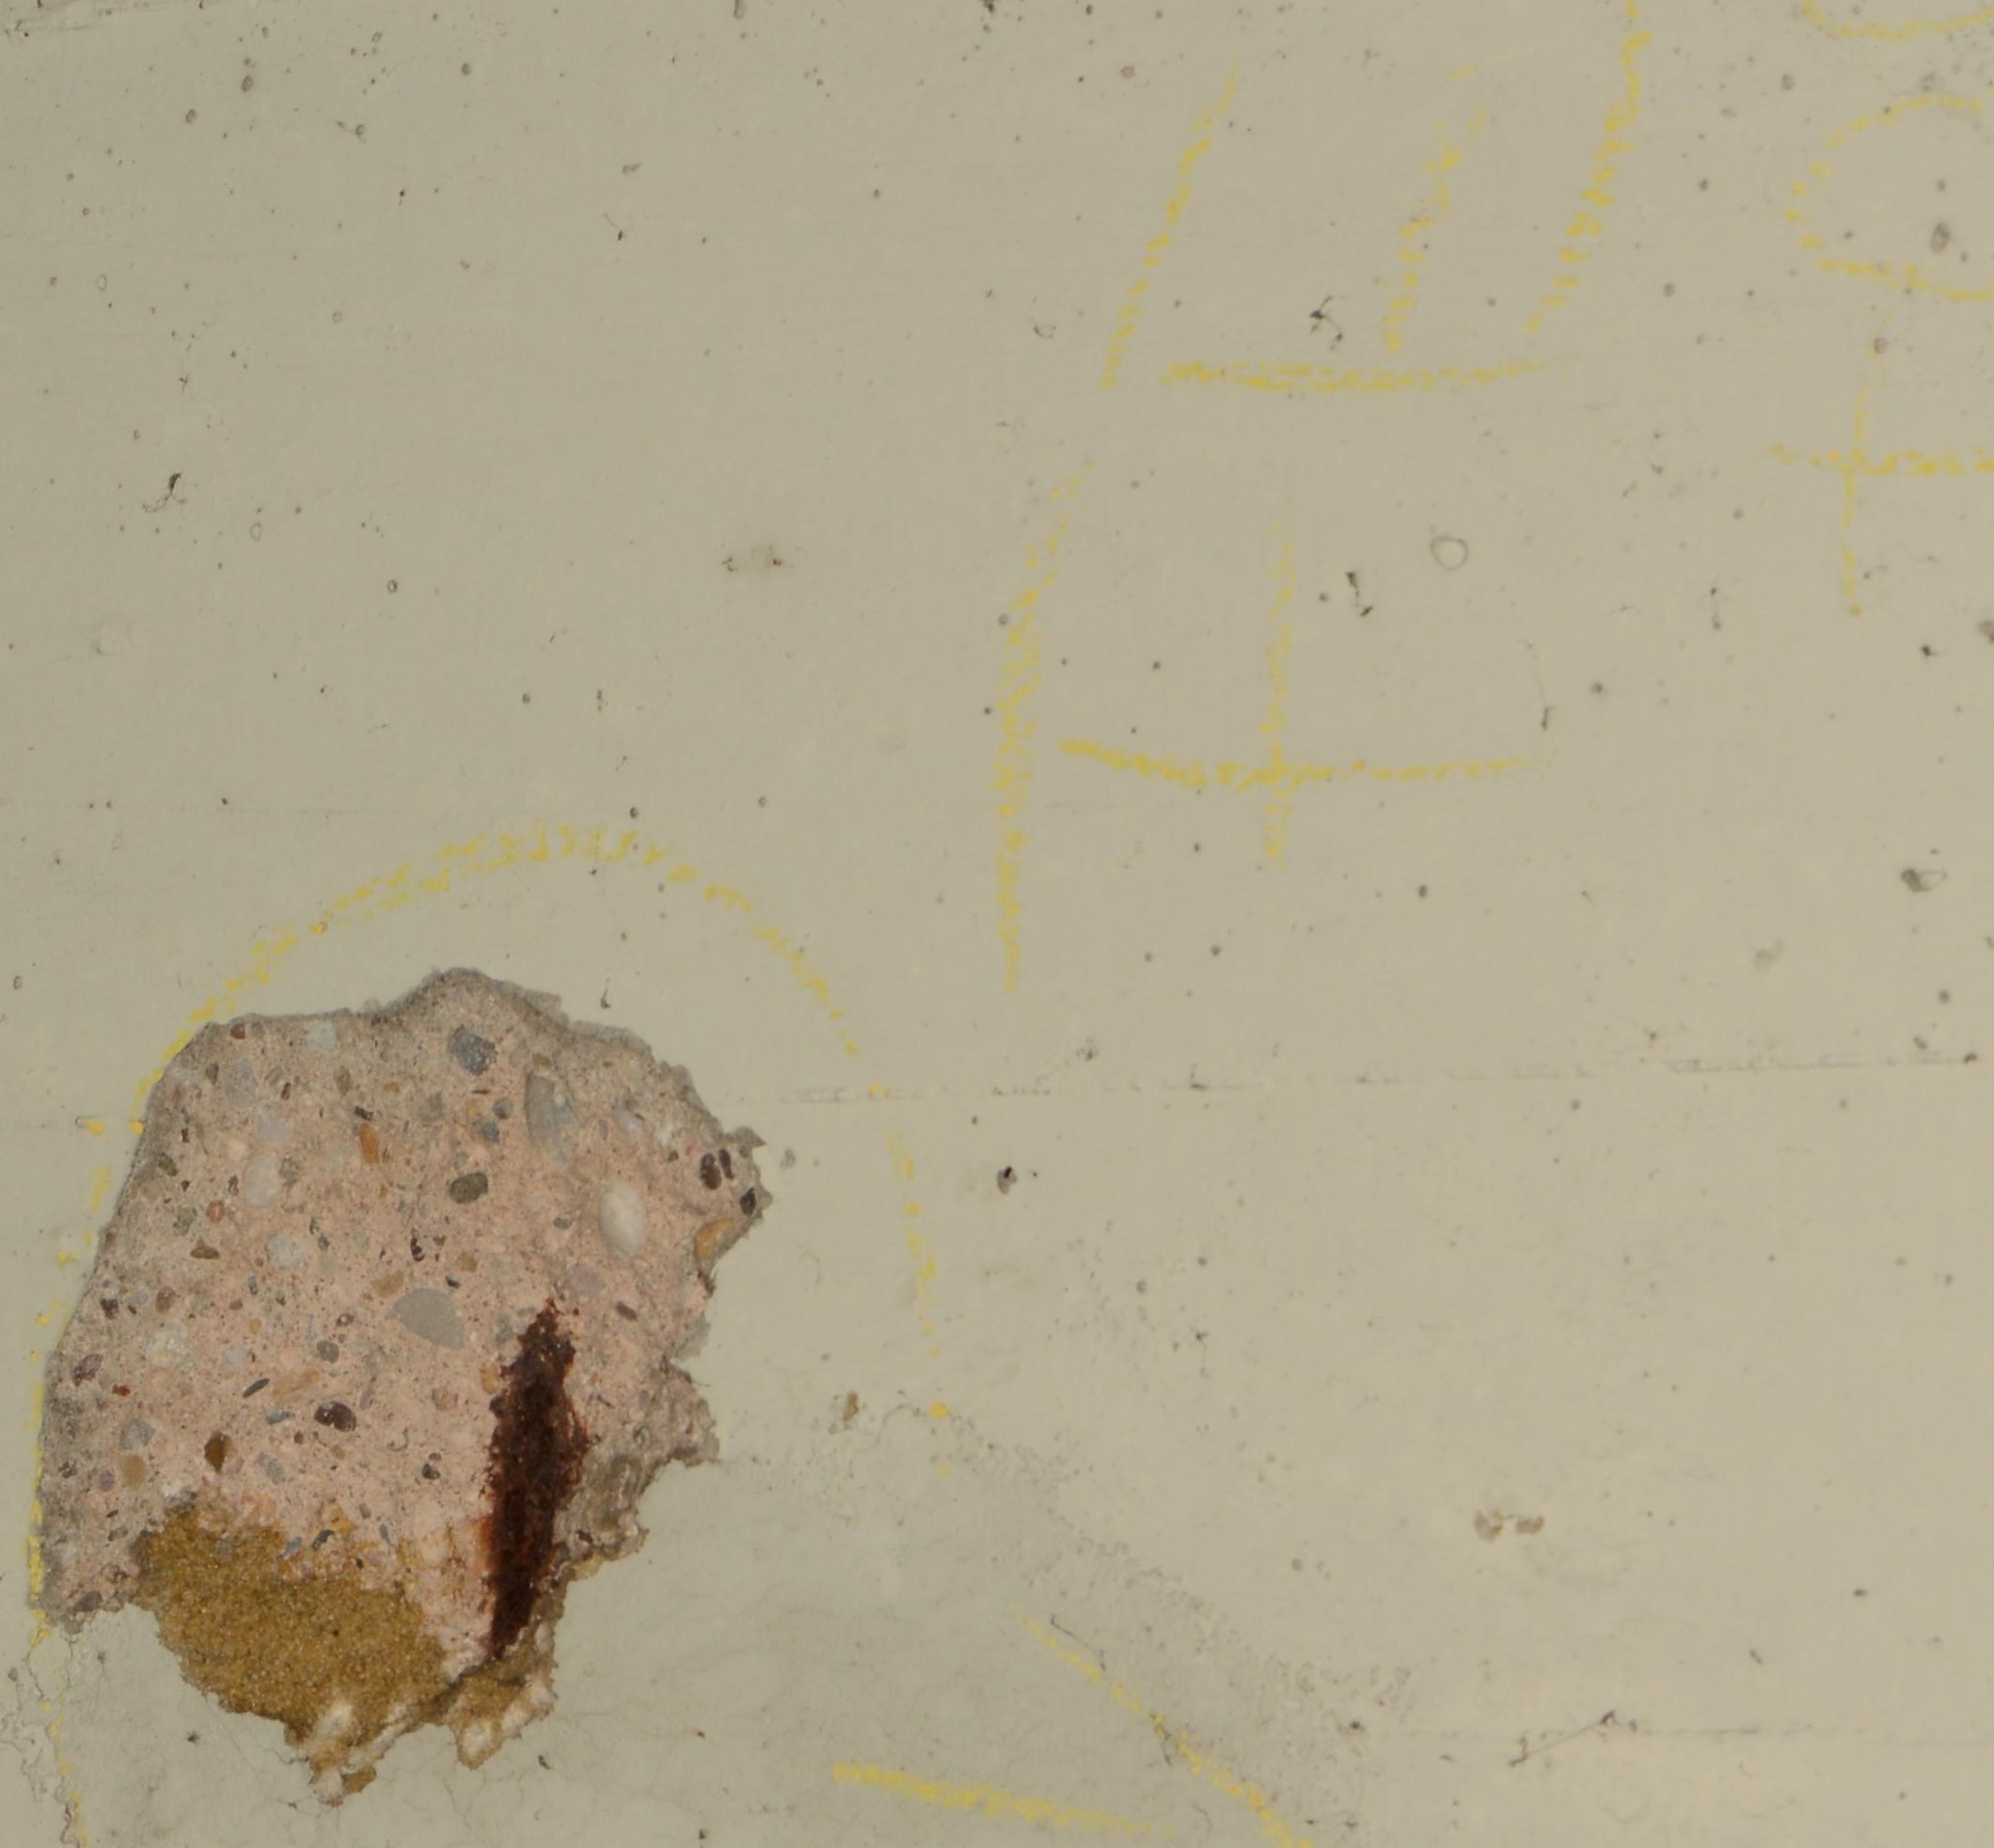Exposed reinforcement: (485, 1294, 591, 1659)
Spalling: (24, 962, 776, 1808)
